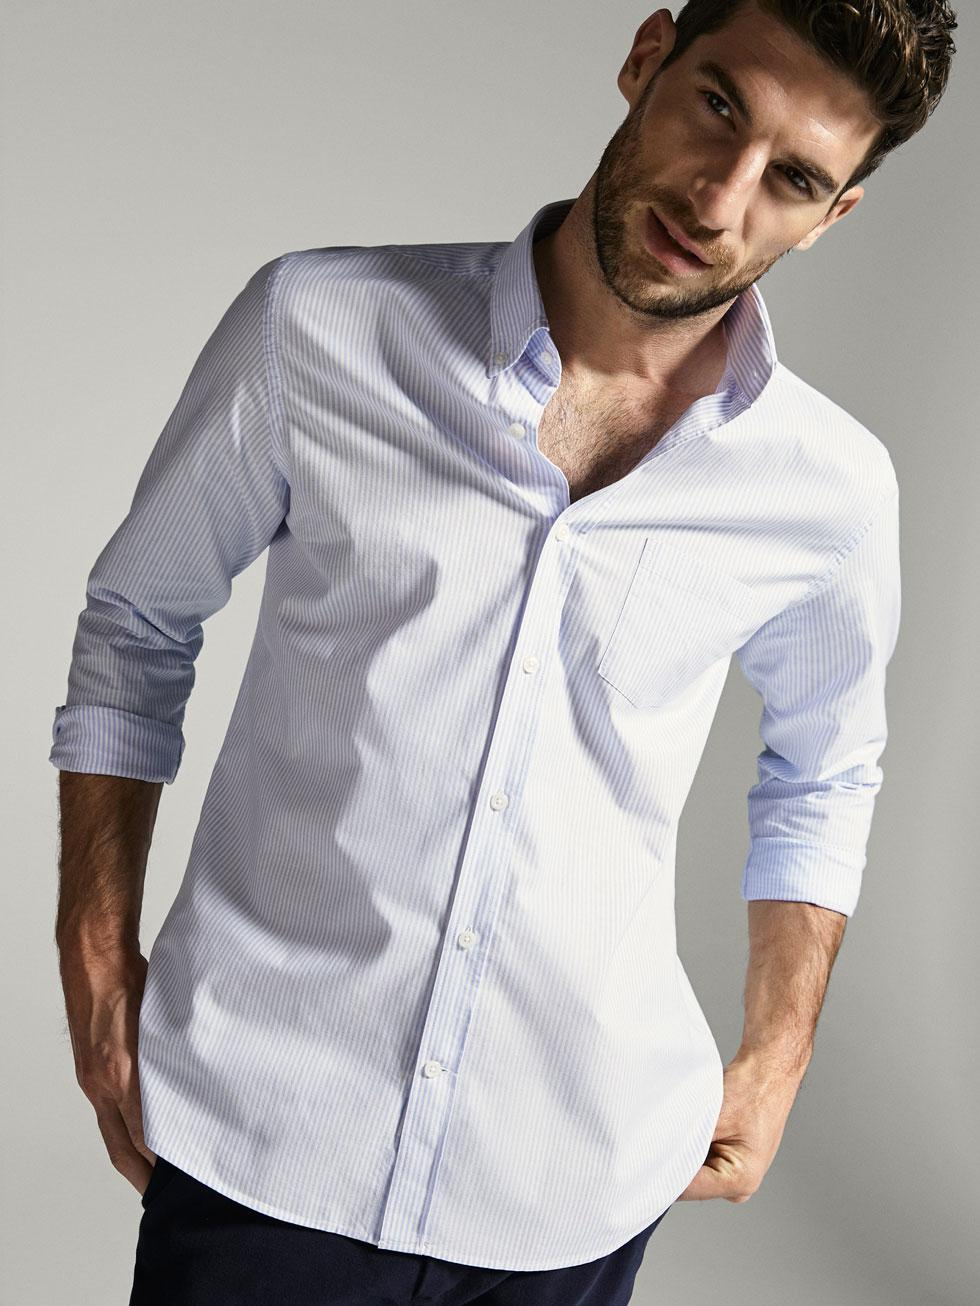teeshirt: (59, 213, 881, 1299)
